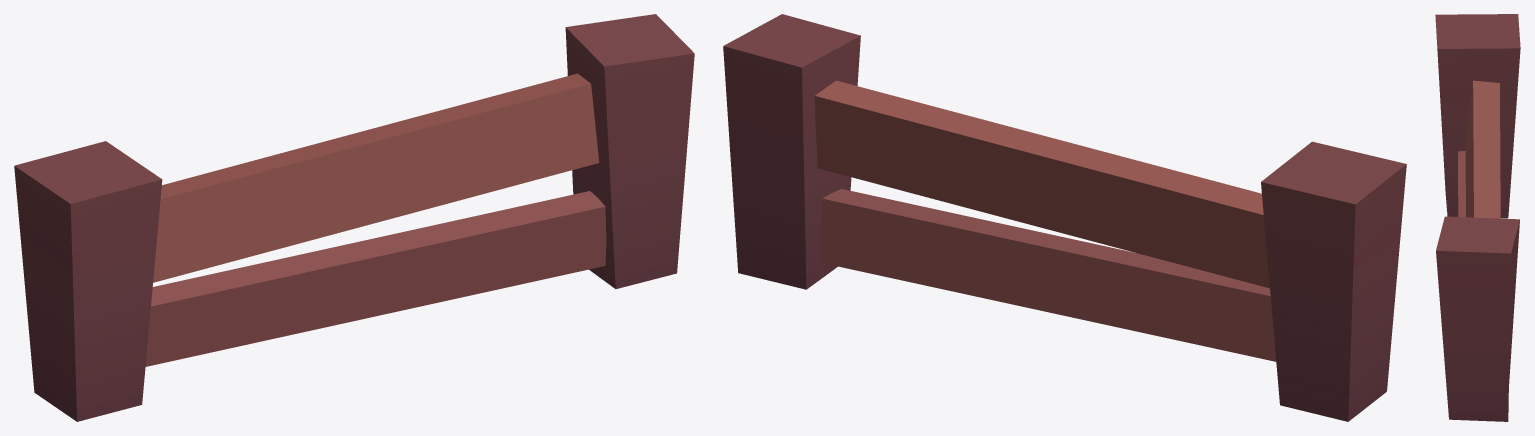
Rendered from p-reja.glb.
3 views of the same model, side by side, from view 1: azimuth 30°, elevation 25°; view 2: azimuth 150°, elevation 25°; view 3: azimuth 270°, elevation 25° (orthographic). The views are drawn at different scales.
Visible parts, largest first — view 1: Fence; view 2: Fence; view 3: Fence.
Part boxes in pixels (x1=…): Fence: x1=14, y1=14, x2=694, y2=421; Fence: x1=723, y1=14, x2=1406, y2=421; Fence: x1=1435, y1=14, x2=1520, y2=421.
Bounding box in the file's own units: 1.04 × 0.3562 × 0.1564.
Materials: 1 (1 with a texture image).
